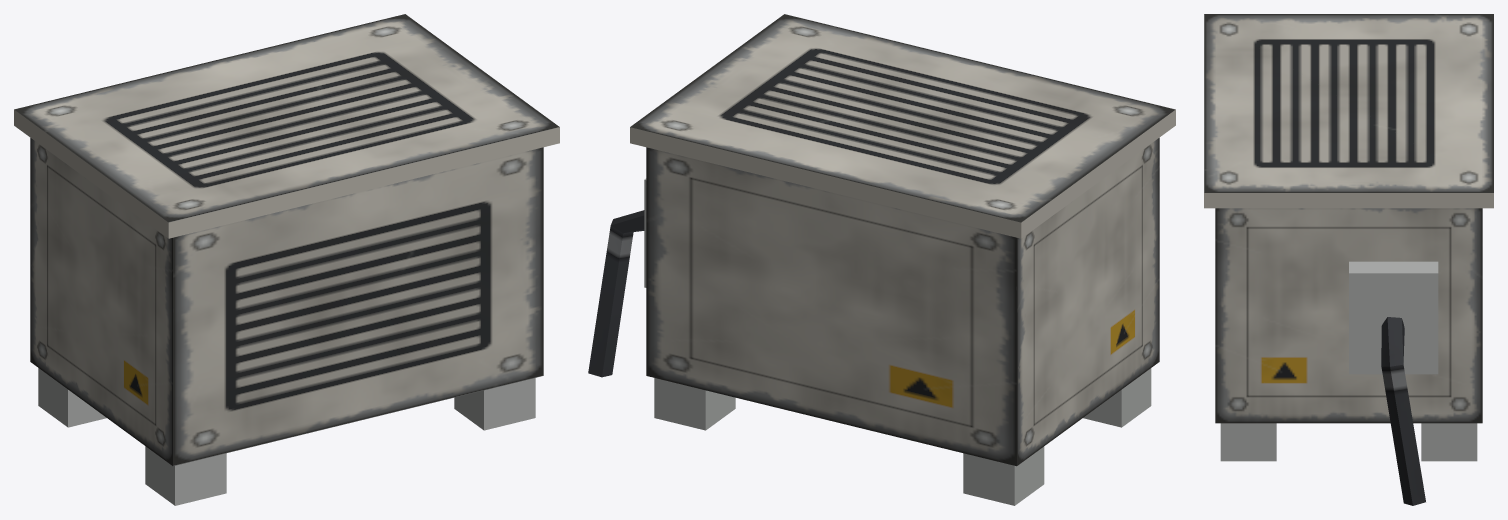
Rendered from part_vent.fbx.
The picture shows the model from 3 angles, left to right: view 1: azimuth 30°, elevation 25°; view 2: azimuth 150°, elevation 25°; view 3: azimuth 270°, elevation 25°; orthographic projection. The views are drawn at different scales.
Parts seen in each view (by area): view 1: part_vent; view 2: part_vent; view 3: part_vent.
Boxes of the visible parts, x1,y1,x2,y2 form: part_vent: [14, 14, 559, 505]; part_vent: [588, 14, 1175, 505]; part_vent: [1204, 14, 1493, 505].
Size of the model in its own units: 0.4607 by 0.2741 by 0.26.
1 material, 1 textured.
